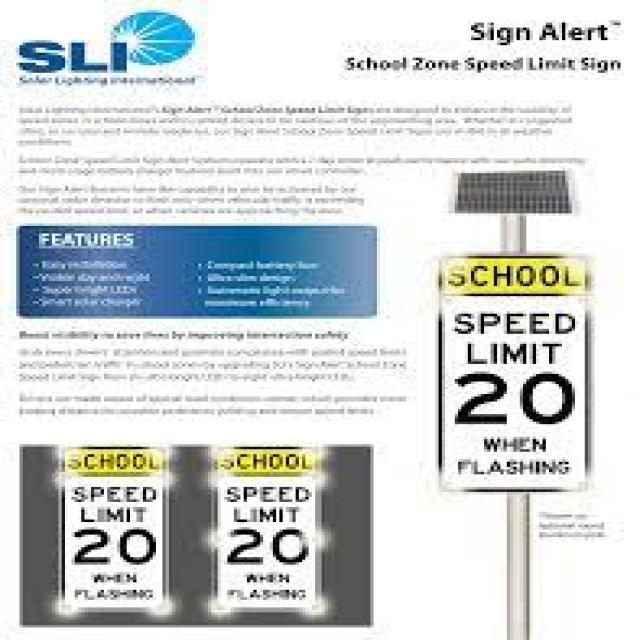speedLimit20: (439, 291, 588, 437), (212, 473, 318, 571), (63, 480, 164, 568)
